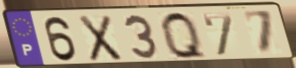3: (123, 13, 159, 61)
6: (42, 16, 79, 63)
7: (240, 10, 275, 57), (201, 12, 236, 58)
Q: (159, 10, 210, 61)
X: (77, 14, 124, 63)
